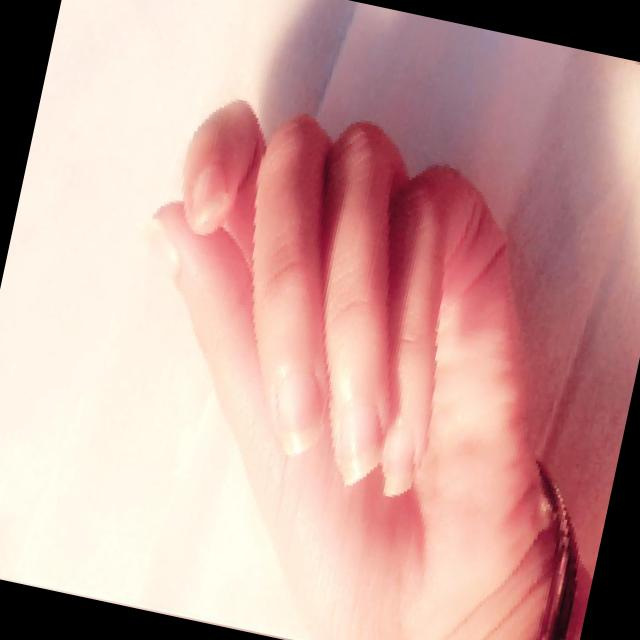Nail: (336, 391, 381, 480), (277, 372, 321, 452), (384, 417, 414, 494), (191, 165, 225, 228), (145, 222, 179, 277)
